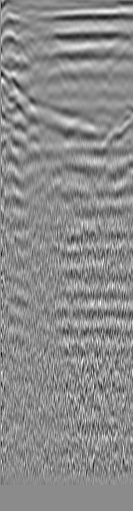상수: (11, 10, 31, 30)
